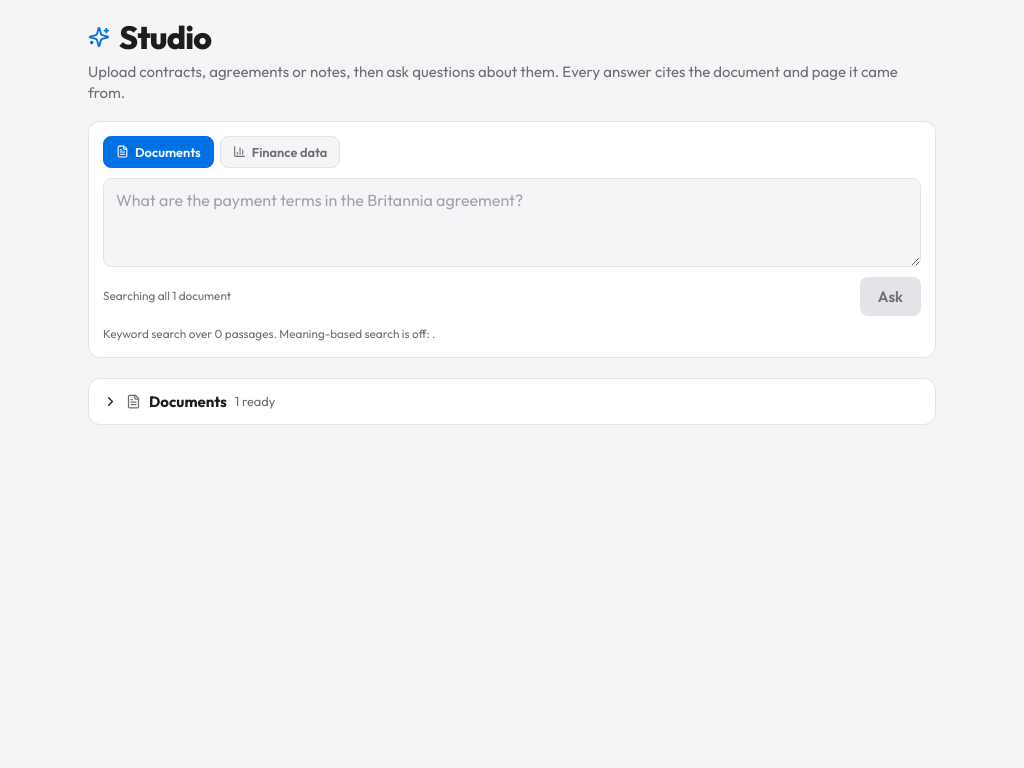
it: Studio citations › shows one passage at a time
The width and height of the screenshot is (1024, 768).
Type "What are the payment terms?" into the text box named "Your question". click: (512, 222)
box: [103,178,921,267]
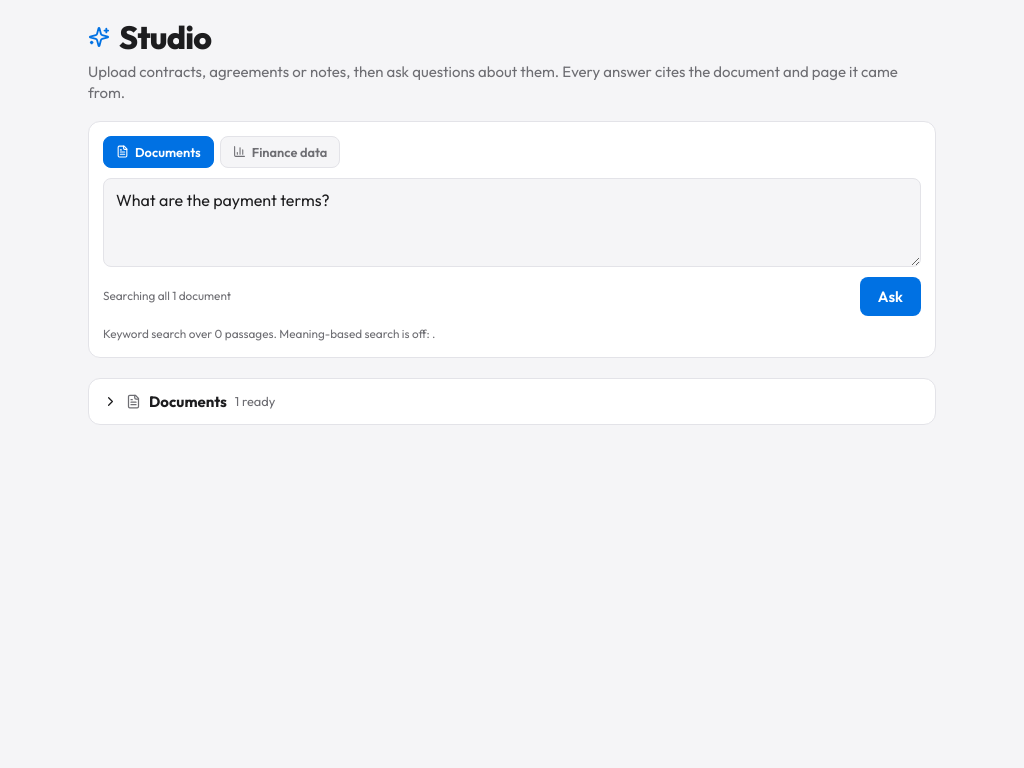
Click the button "Ask". click: (890, 296)
box: [860,277,921,316]
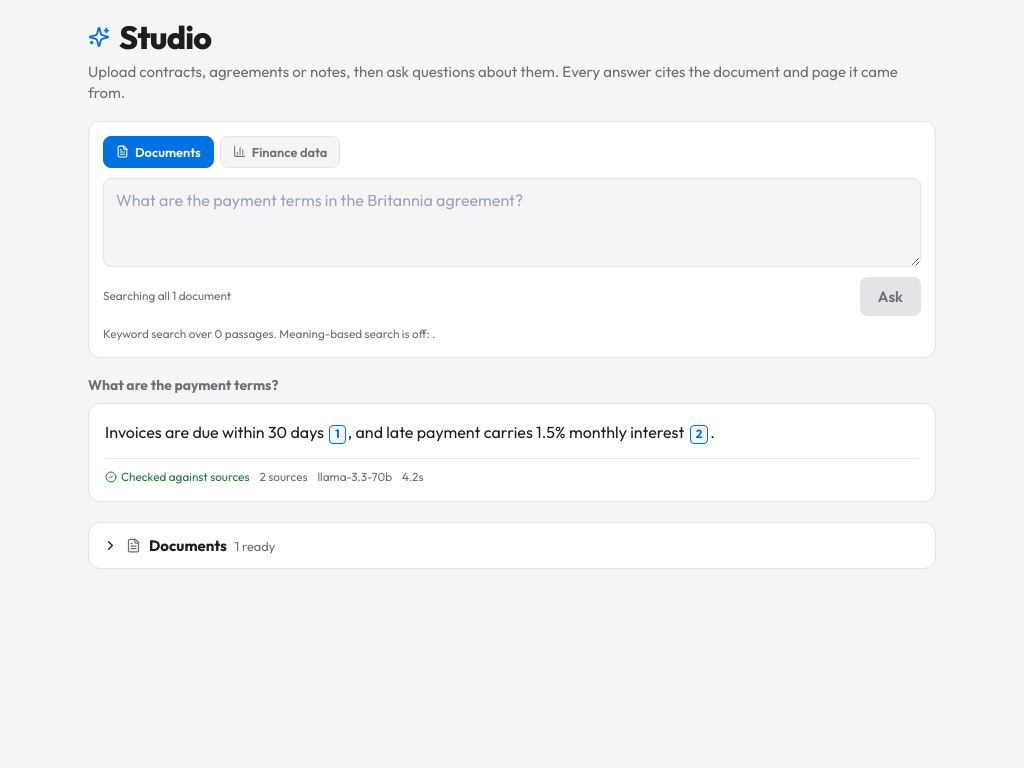
Click the button "1". click: (338, 434)
box: [329,425,346,444]
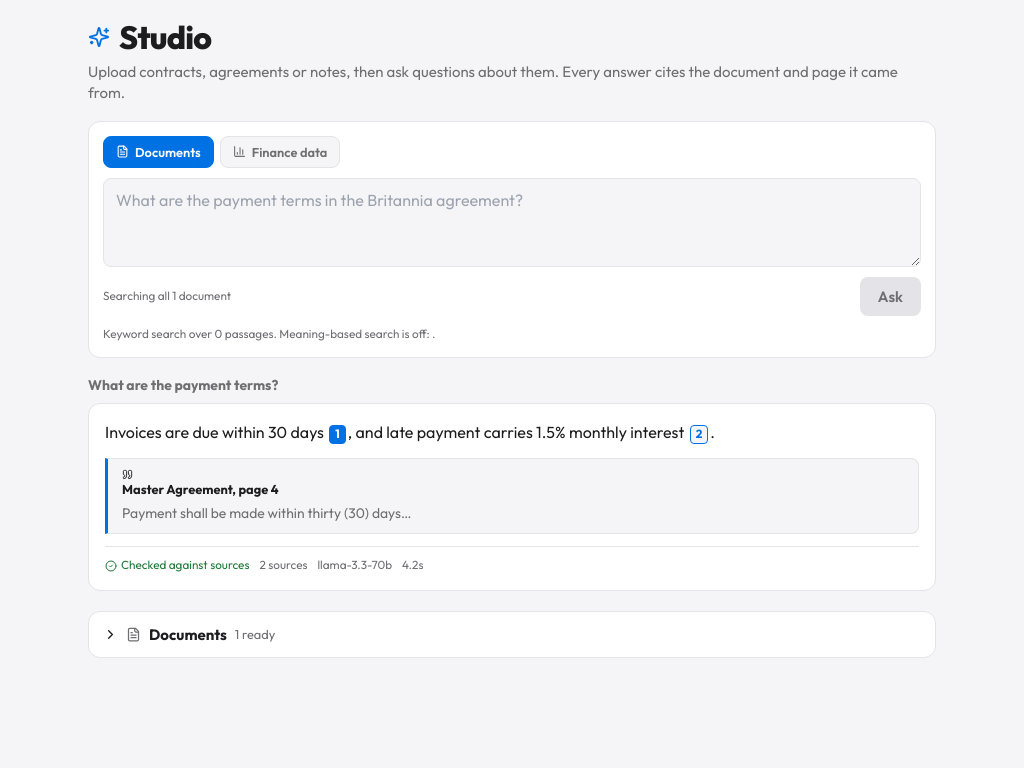
Click the button "2". click: (699, 434)
box: [690,425,708,444]
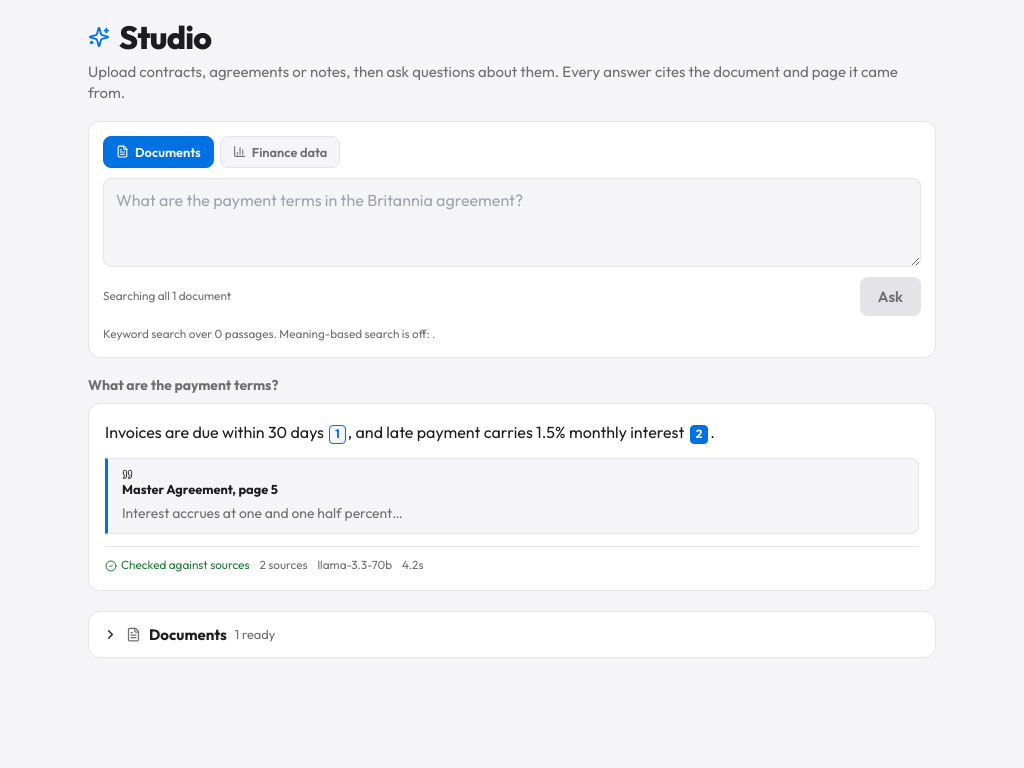
Check: the text "thirty (30) days" is gone
Check: the text "one and one half percent" is shown, box [122,504,392,522]
